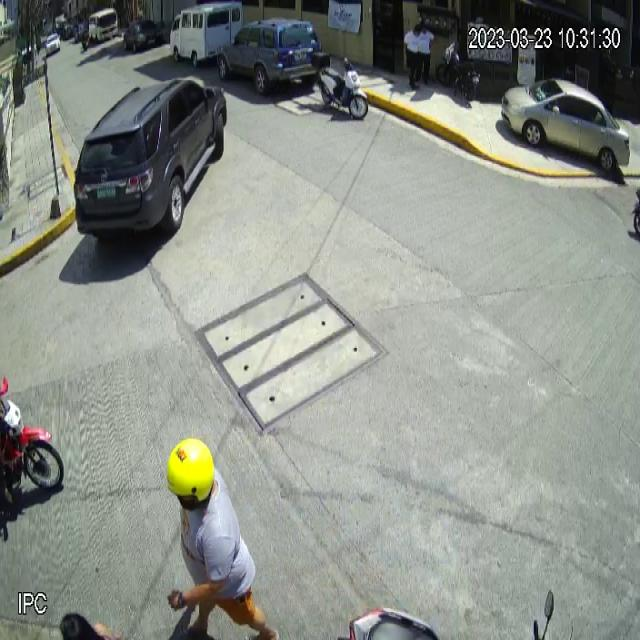Car: (73, 80, 230, 247), (502, 76, 631, 171), (217, 18, 323, 103)
Motorcycle: (310, 50, 369, 121)
Van: (169, 0, 244, 67)
